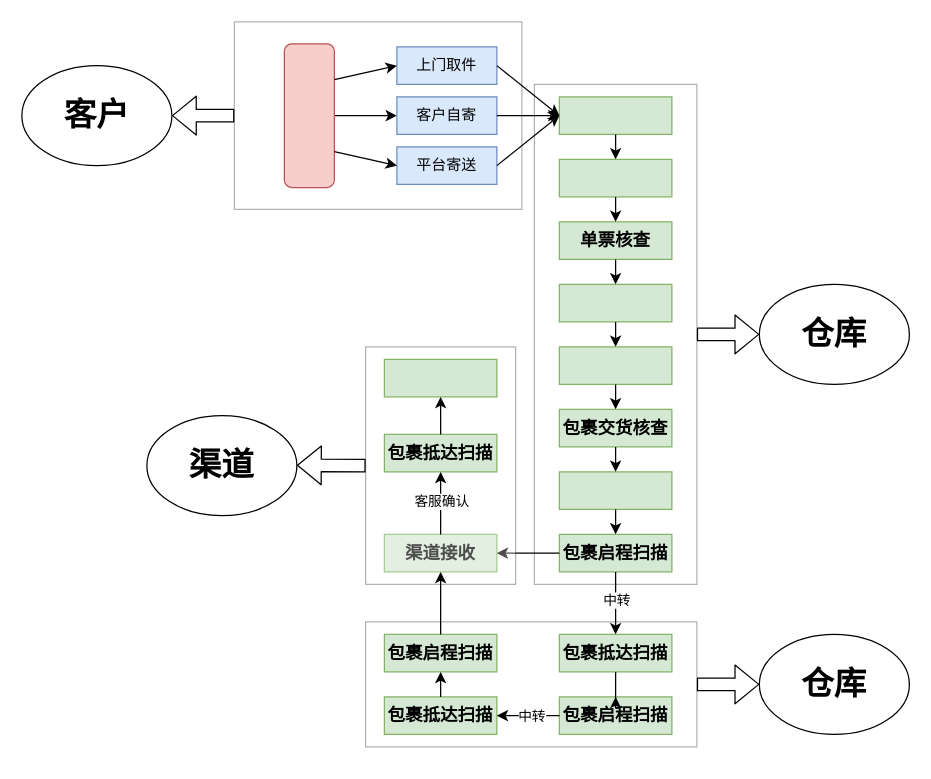
Some shapes in this 931 by 779 pixel diagram are drawn without their labels. Each missing label, with the centre of its shape:
包裹入库: point (615, 177)
客户下单: point (308, 115)
快递扫描: point (615, 115)
支付验证: point (615, 302)
标签打印: point (615, 365)
渠道轨迹生成: point (440, 377)
随货单证核查: point (615, 490)
